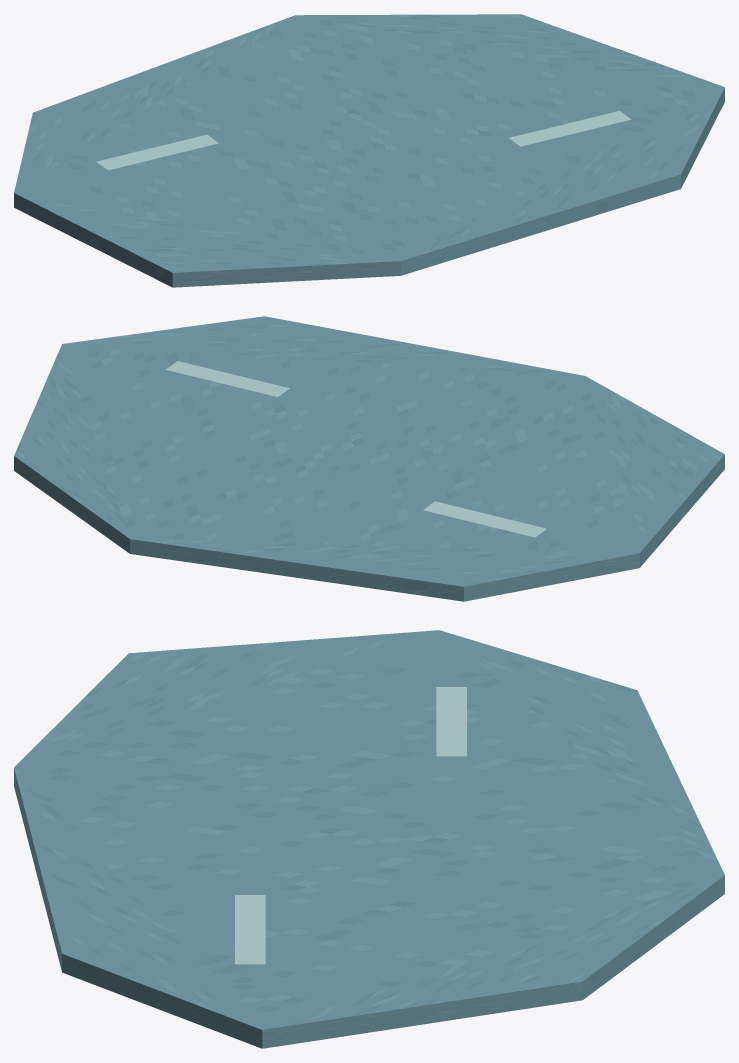
File: water_clean.glb
The picture shows the model from 3 angles, top to bottom: view 1: azimuth 30°, elevation 25°; view 2: azimuth 150°, elevation 25°; view 3: azimuth 270°, elevation 25°; orthographic projection. The views are drawn at different scales.
Visible parts, largest first — view 1: block_shallow spilled water, block_surface reflection (×2); view 2: block_shallow spilled water, block_surface reflection (×2); view 3: block_shallow spilled water, block_surface reflection (×2).
Part boxes in pixels (left/top/right/bottom): block_shallow spilled water: left=14, top=14, right=724, bottom=287; block_surface reflection (×2): left=96, top=111, right=631, bottom=170; block_shallow spilled water: left=14, top=316, right=724, bottom=601; block_surface reflection (×2): left=166, top=361, right=546, bottom=537; block_shallow spilled water: left=14, top=630, right=724, bottom=1048; block_surface reflection (×2): left=235, top=687, right=466, bottom=964.
Size of the model in its own units: 0.28 by 0.00647 by 0.2104.
1 material, 1 textured.
